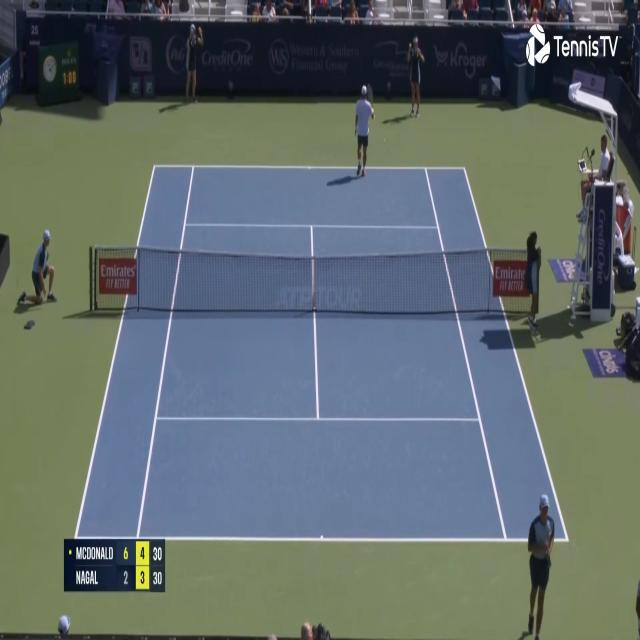tennis-player: (524, 493, 556, 638), (353, 81, 374, 180)
